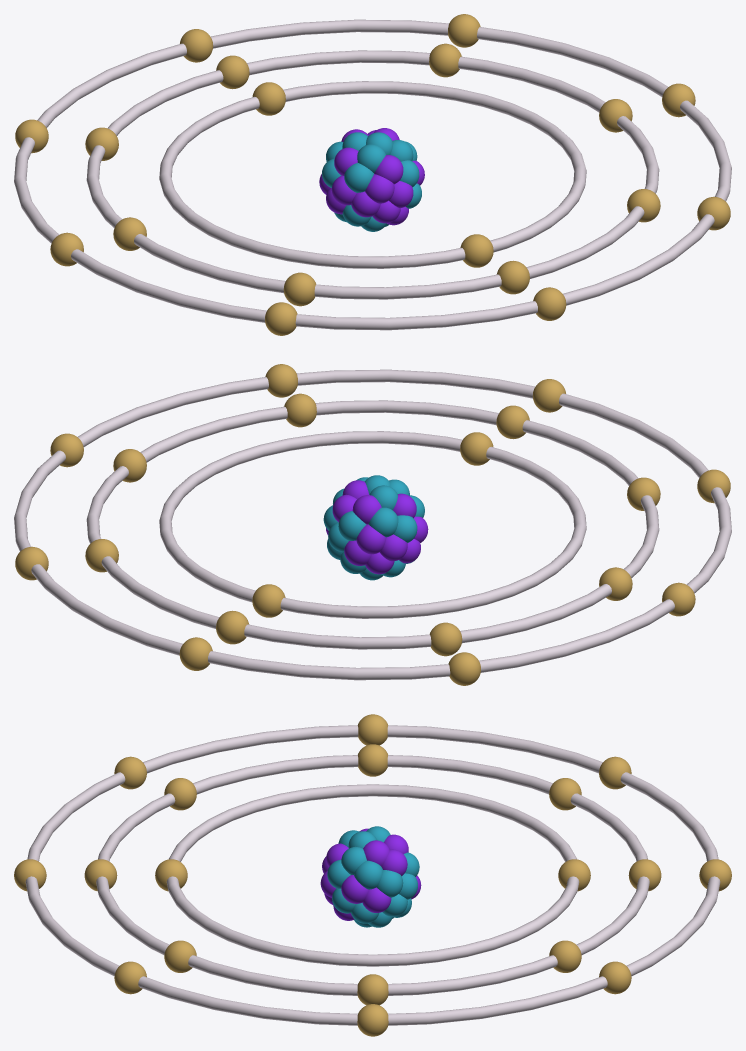
File: argonio.glb
3 views of the same model, one above another, from view 1: azimuth 30°, elevation 25°; view 2: azimuth 150°, elevation 25°; view 3: azimuth 270°, elevation 25° (orthographic). The views are drawn at different scales.
Visible parts, largest first — view 1: Orbita_3, Orbita_2, Orbita_1, Nucleo_Completo, Eletron_C2_8, Eletron_C3_8, Eletron_C2_4, Eletron_C3_4, Eletron_C2_1, Eletron_1, Eletron_C3_1, Eletron_C2_5 (+10 smaller); view 2: Orbita_3, Orbita_2, Orbita_1, Nucleo_Completo, Eletron_C2_6, Eletron_C3_6, Eletron_C2_2, Eletron_C3_2, Eletron_C2_5, Eletron_2, Eletron_C3_5, Eletron_C2_1 (+10 smaller); view 3: Orbita_3, Orbita_2, Orbita_1, Nucleo_Completo, Eletron_C3_3, Eletron_C2_7, Eletron_C2_3, Eletron_C3_7, Eletron_C3_2, Eletron_C3_4, Eletron_C2_2, Eletron_C2_4 (+10 smaller).
Boxes of the visible parts, x1,y1,x2,y2 form: Orbita_3: (14,19,731,330); Orbita_2: (86,50,659,299); Orbita_1: (159,81,586,268); Nucleo_Completo: (319,128,424,231); Eletron_C2_8: (283,272,316,306); Eletron_C3_8: (265,302,297,335); Eletron_C2_4: (429,43,461,77); Eletron_C3_4: (448,14,480,47); Eletron_C2_1: (496,260,529,294); Eletron_1: (460,234,493,267); Eletron_C3_1: (533,287,566,320); Eletron_C2_5: (216,55,249,89); Orbita_3: (14,369,731,680); Orbita_2: (86,400,659,649); Orbita_1: (159,431,586,618); Nucleo_Completo: (323,475,428,580); Eletron_C2_6: (429,622,462,656); Eletron_C3_6: (448,652,480,685); Eletron_C2_2: (284,393,316,427); Eletron_C3_2: (265,364,297,397); Eletron_C2_5: (216,610,249,644); Eletron_2: (252,584,285,617); Eletron_C3_5: (179,637,212,670); Eletron_C2_1: (496,405,529,439); Orbita_3: (25,725,720,1025); Orbita_2: (96,755,649,995); Orbita_1: (166,784,579,966); Nucleo_Completo: (320,826,421,927); Eletron_C3_3: (357,1004,388,1036); Eletron_C2_7: (358,744,387,776); Eletron_C2_3: (357,974,388,1005); Eletron_C3_7: (357,714,388,745); Eletron_C3_2: (114,961,146,994); Eletron_C3_4: (599,961,631,994); Eletron_C2_2: (164,940,196,972); Eletron_C2_4: (549,940,581,972).
Size of the model in its own units: 3.56 by 0.5029 by 3.56.
